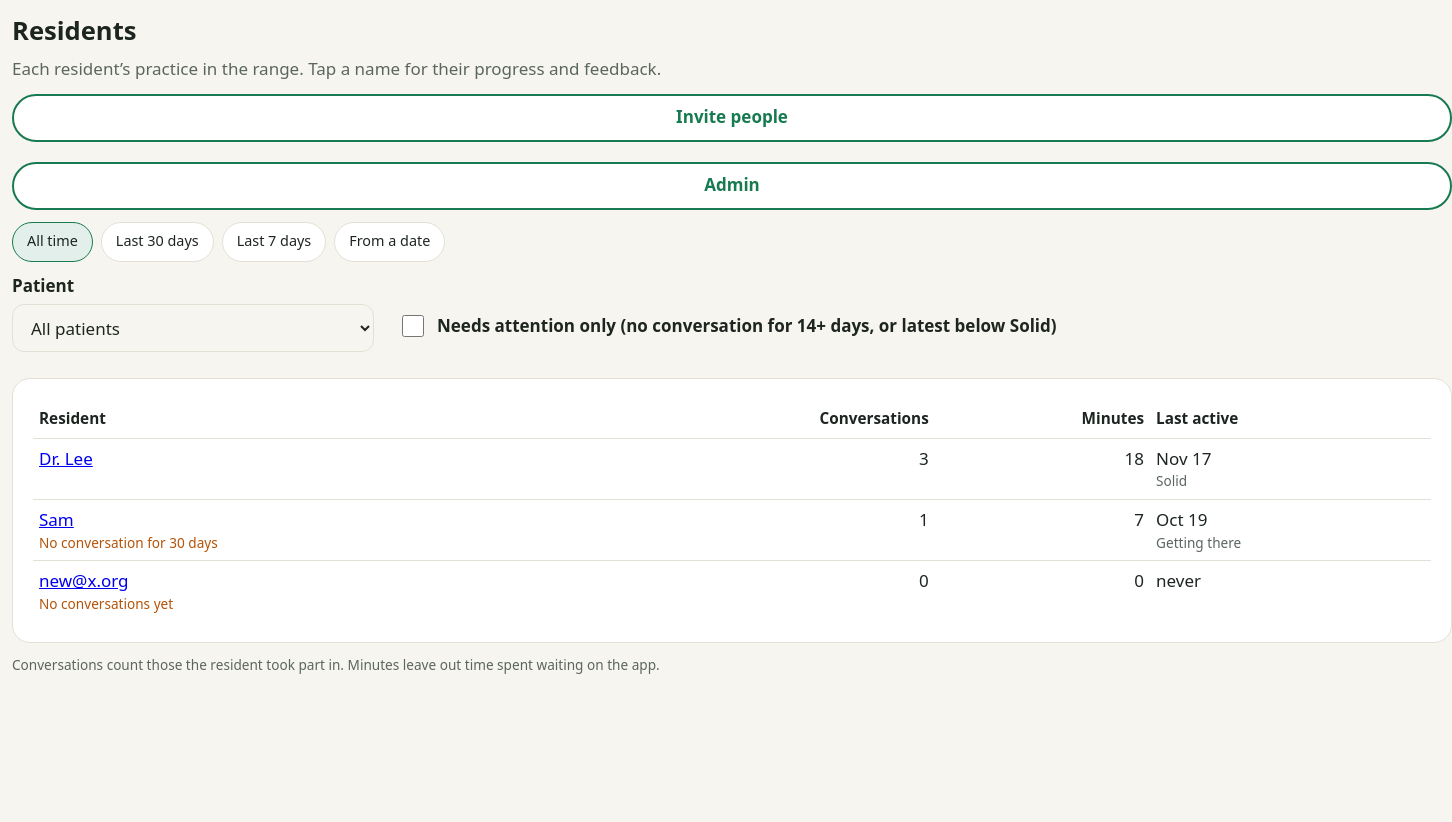
Test: faculty residents dashboard › filters: time range, patient, needs attention
Click the button "Last 7 days". click: (274, 242)
box: [222,222,326,262]
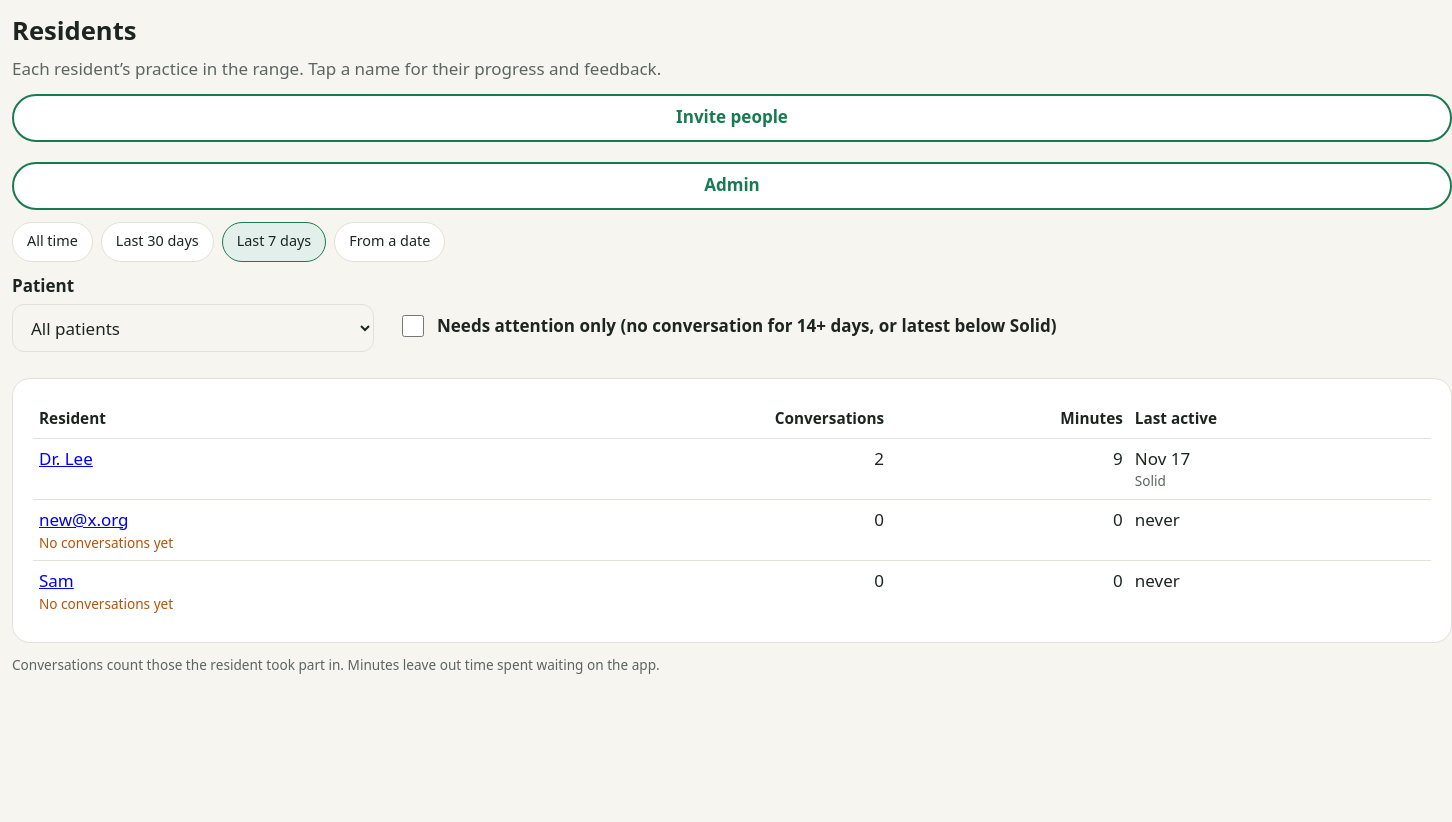
Click the button "All time". click: (52, 242)
box: [12,222,93,262]
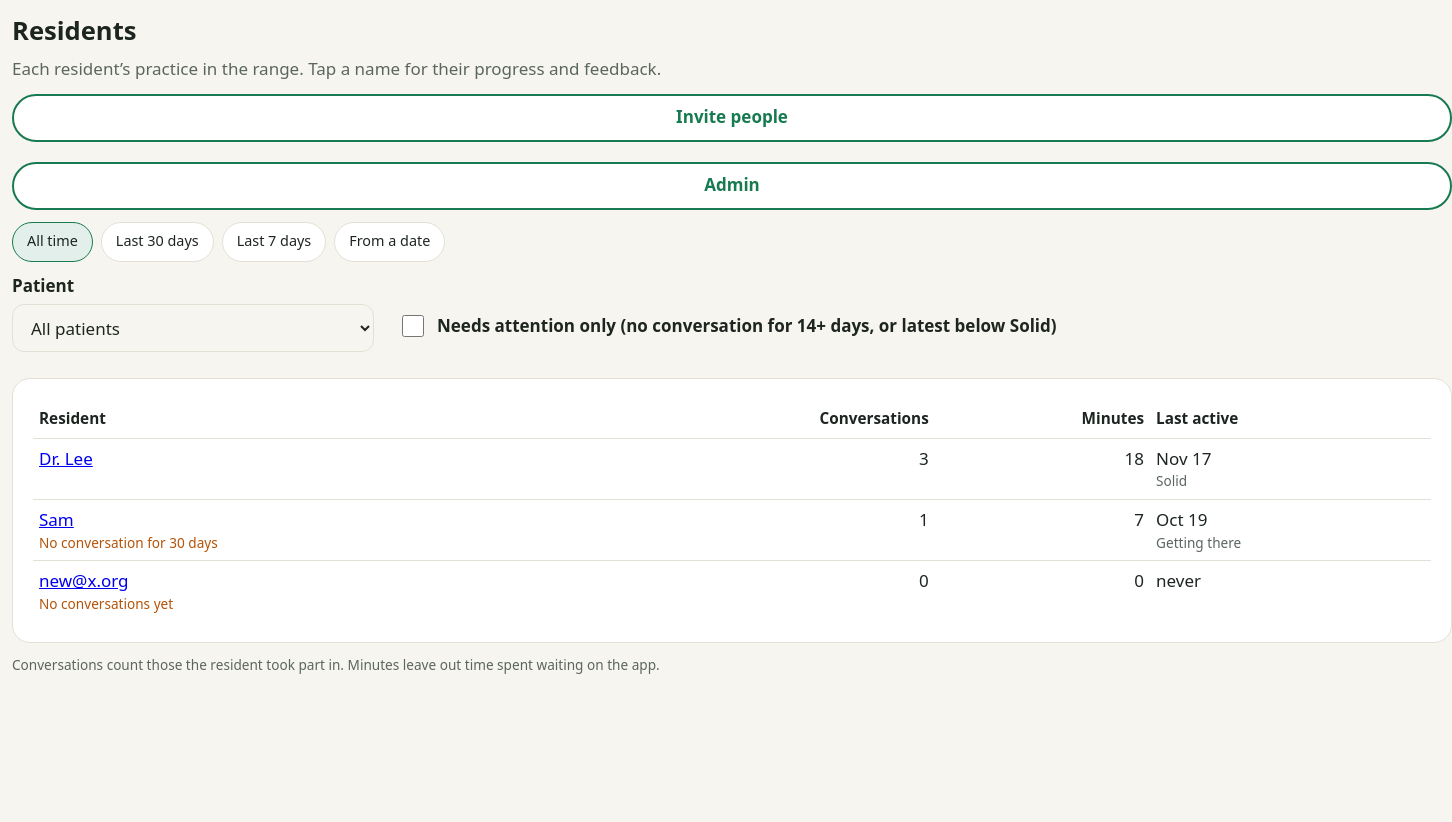
Select "Linda Park: New diabetes" in the dropdown labelled "Patient". click: (193, 328)
box: [12,304,374,352]
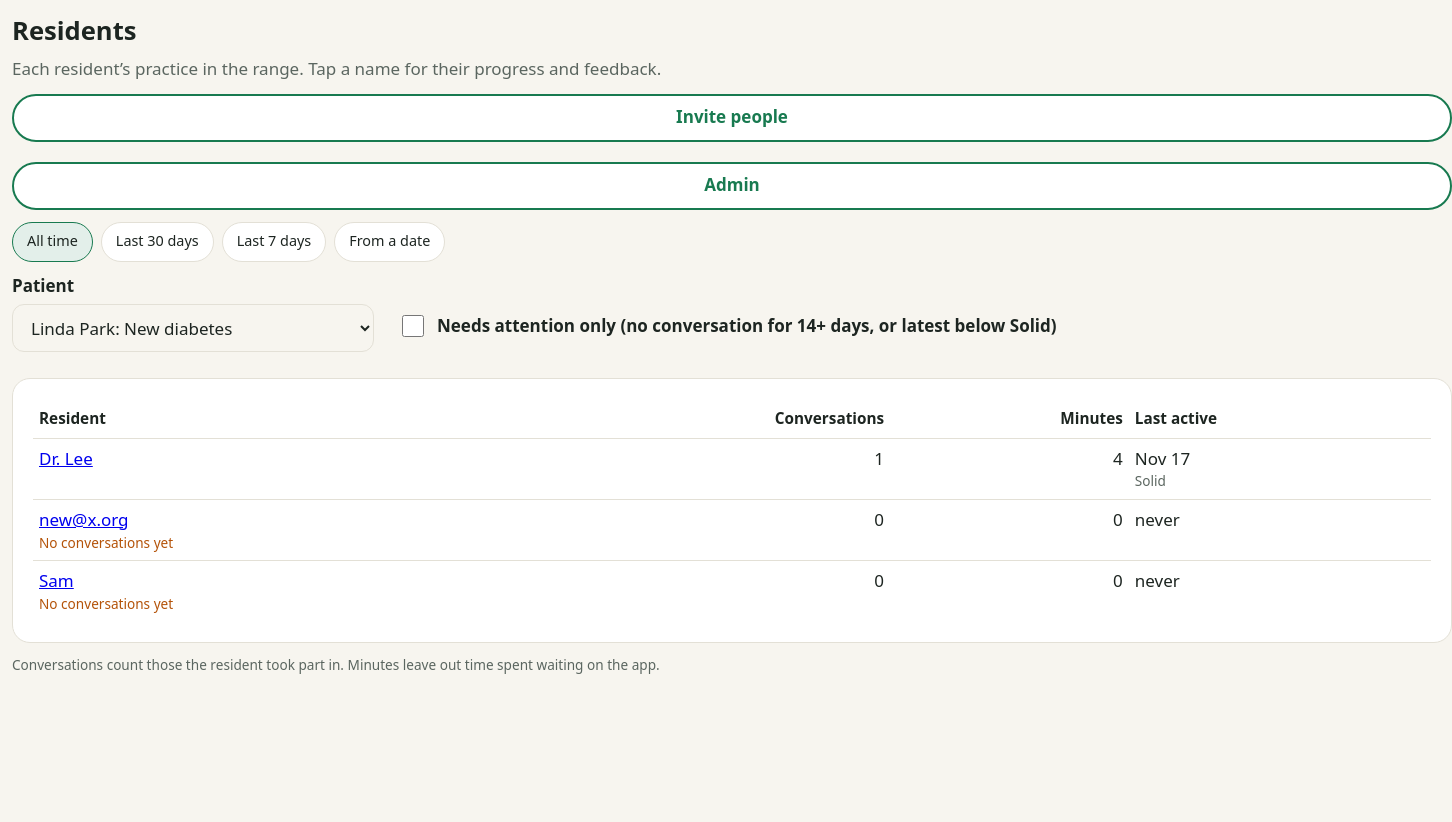
Select "All patients" in the dropdown labelled "Patient". click: (193, 328)
box: [12,304,374,352]
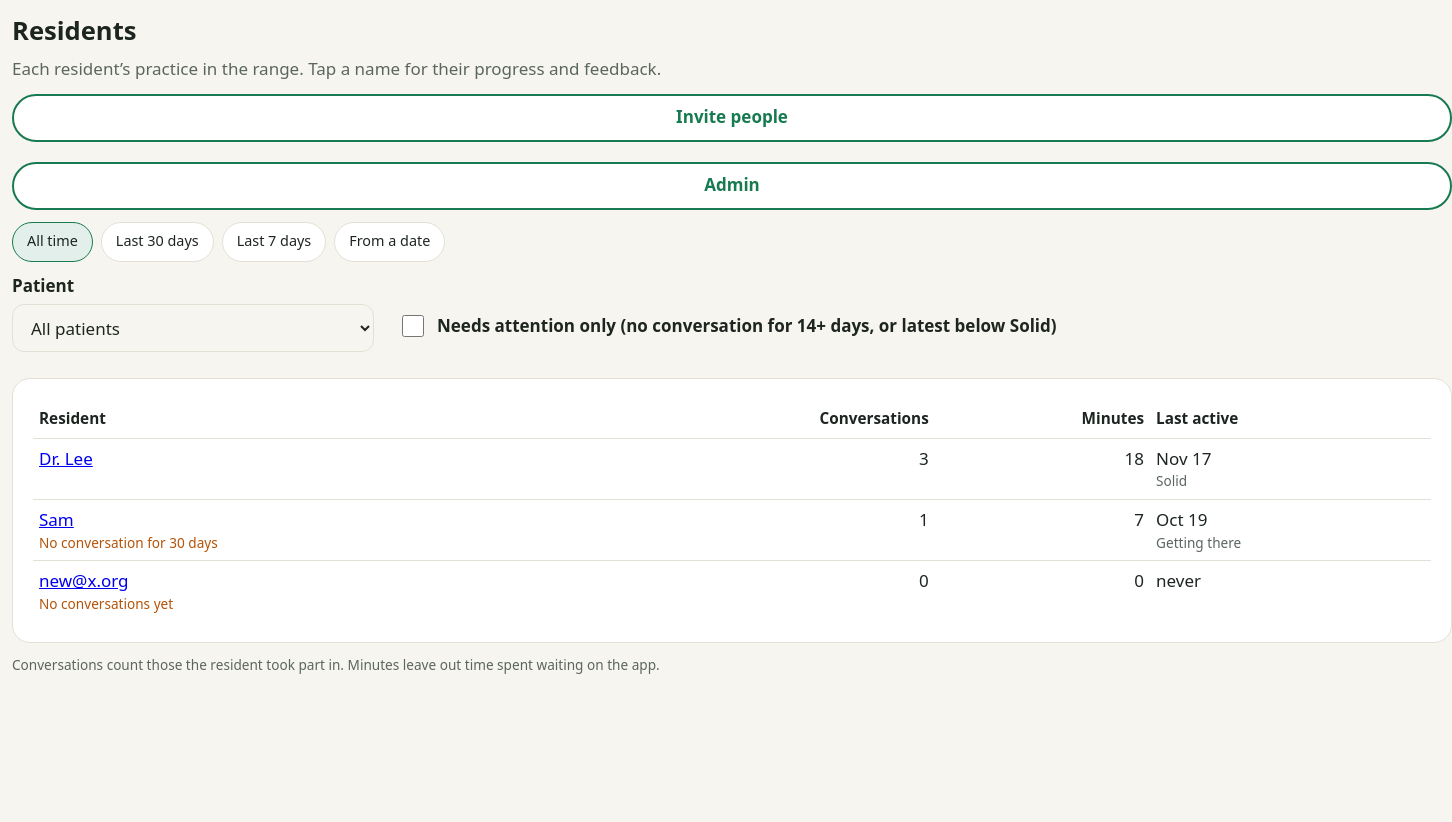
Click the checkbox labelled "Needs attention only". click: (413, 326)
box: [402,315,424,337]
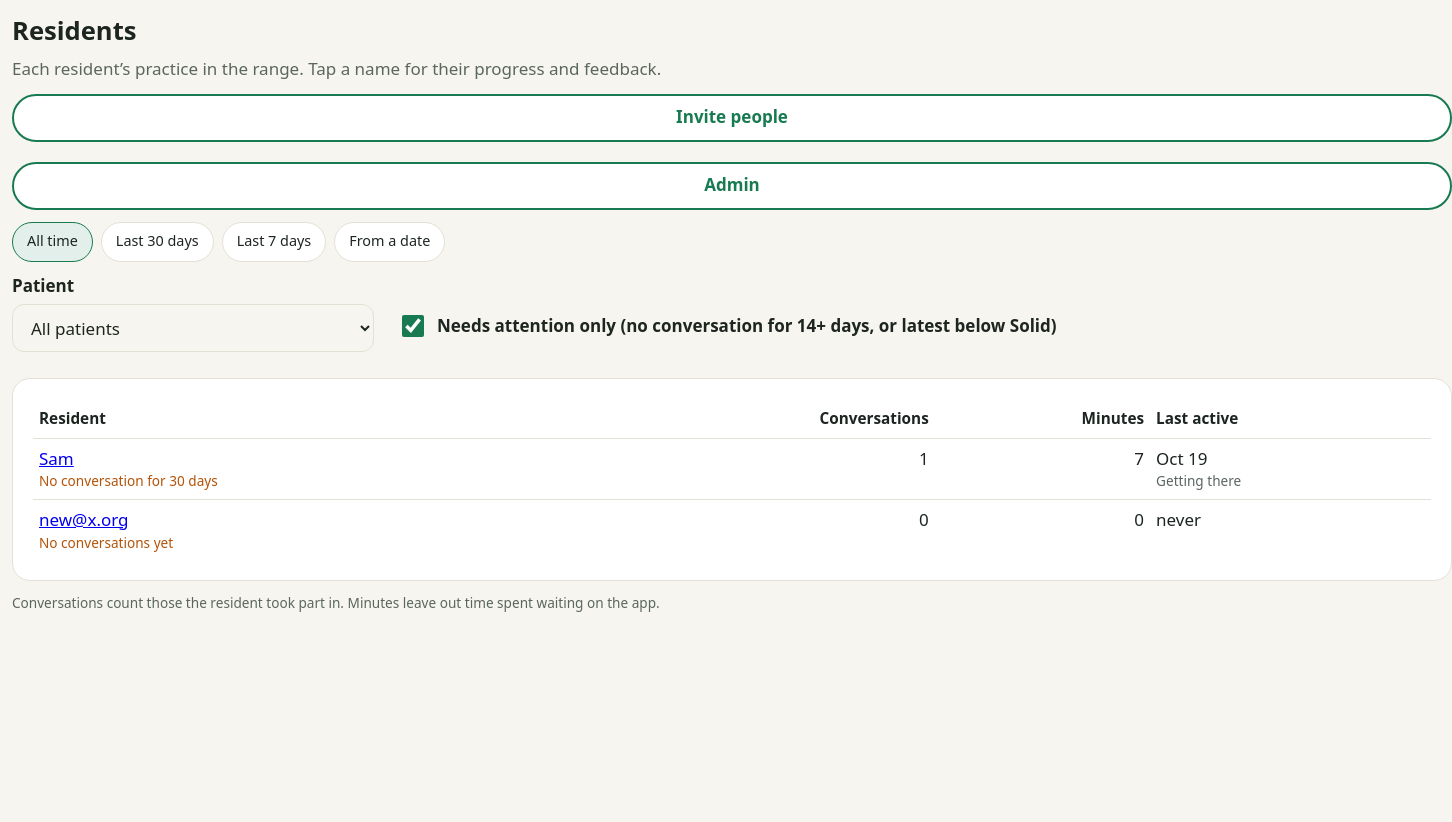
Check: the link "Sam" is shown, box [39,447,74,470]
Check: the link "Dr. Lee" is gone
